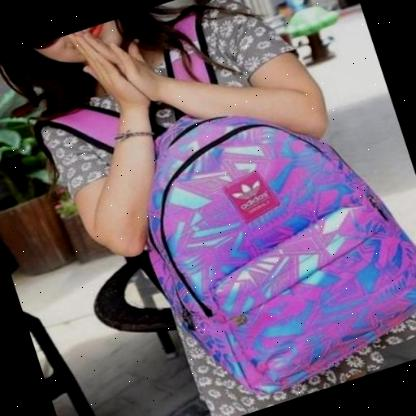bag: (114, 104, 416, 390)
